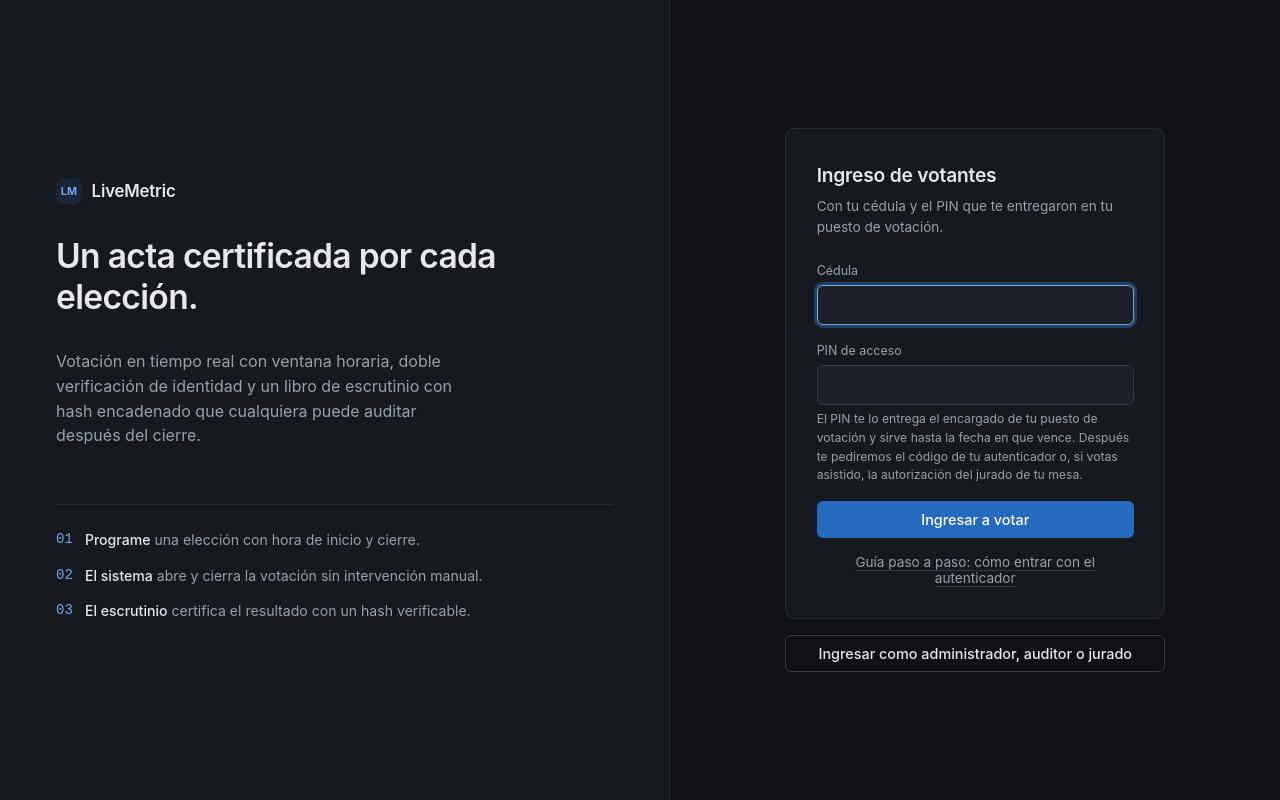
Test case: ingreso de administrador o auditor › mientras espera la respuesta, el botón queda deshabilitado (sin envíos dobles)
Click the button "Ingresar como administrador, auditor o jurado" at (975,653), box [785,635,1165,672]
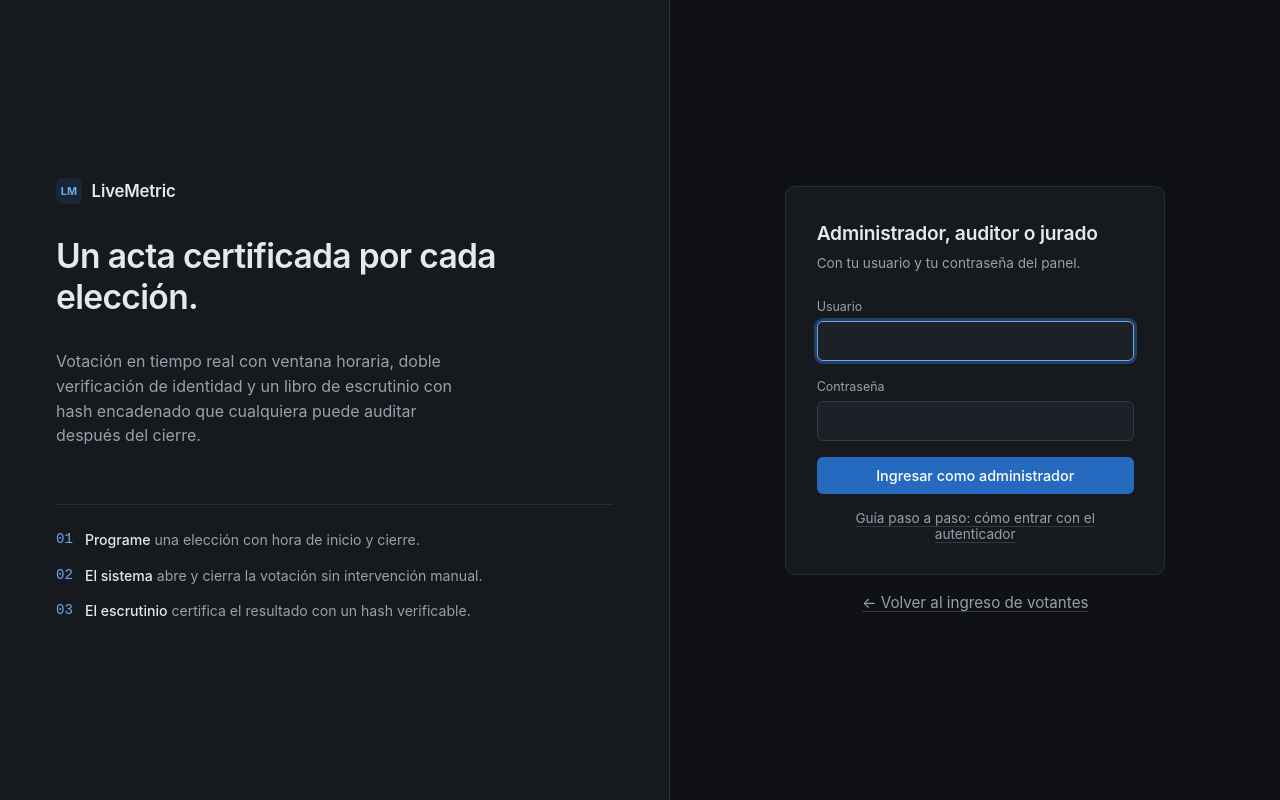
Type "ana" into the field labelled "Usuario" at (975,341), box [817,321,1134,361]
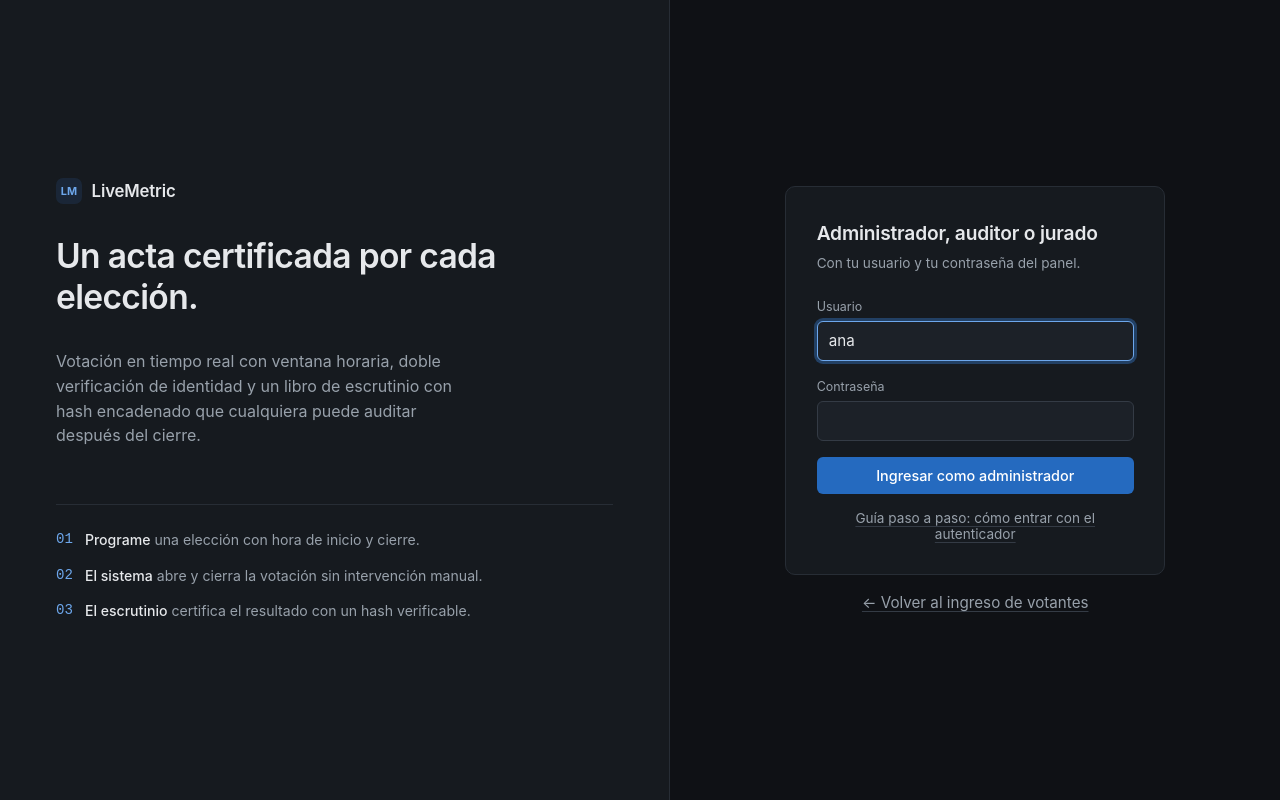
Type "clave" into the password field labelled "Contraseña" at (975,421), box [817,401,1134,441]
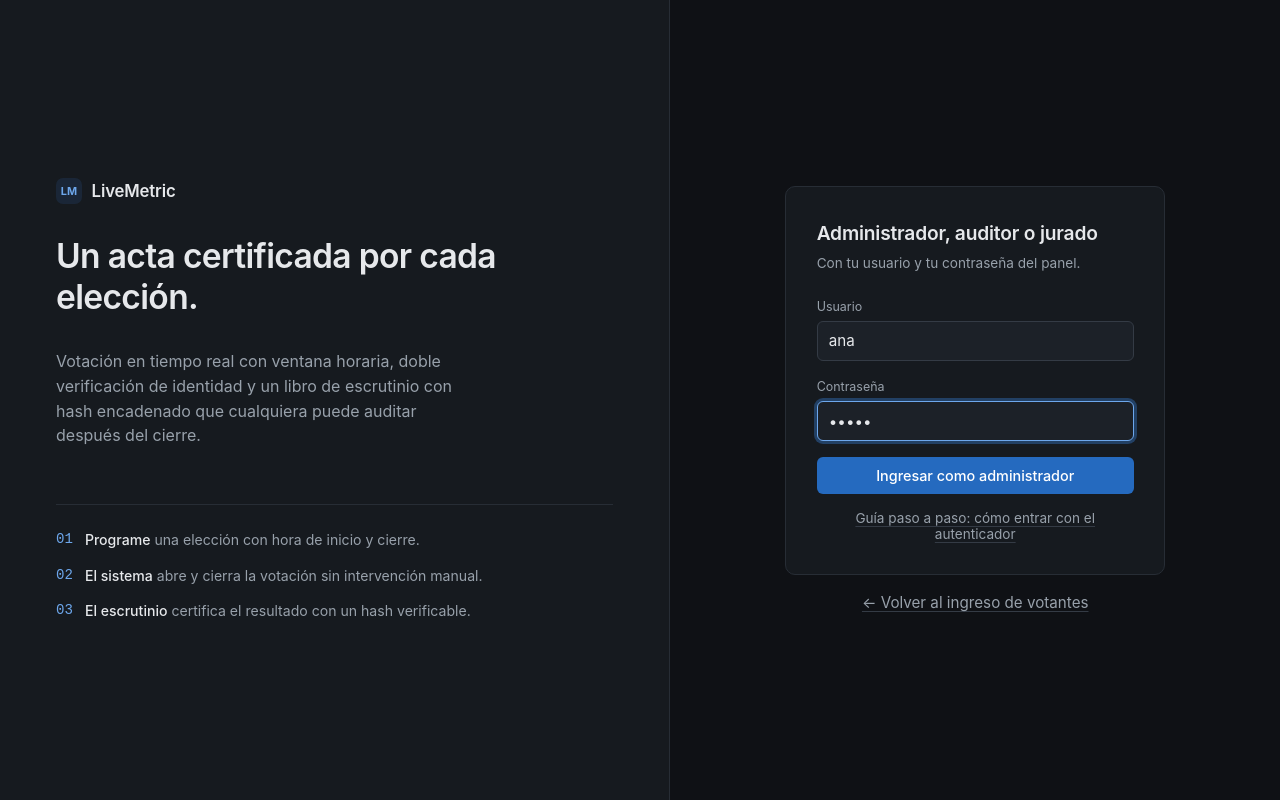
Click the button "Ingresar como administrador" at (975,476), box [817,457,1134,494]
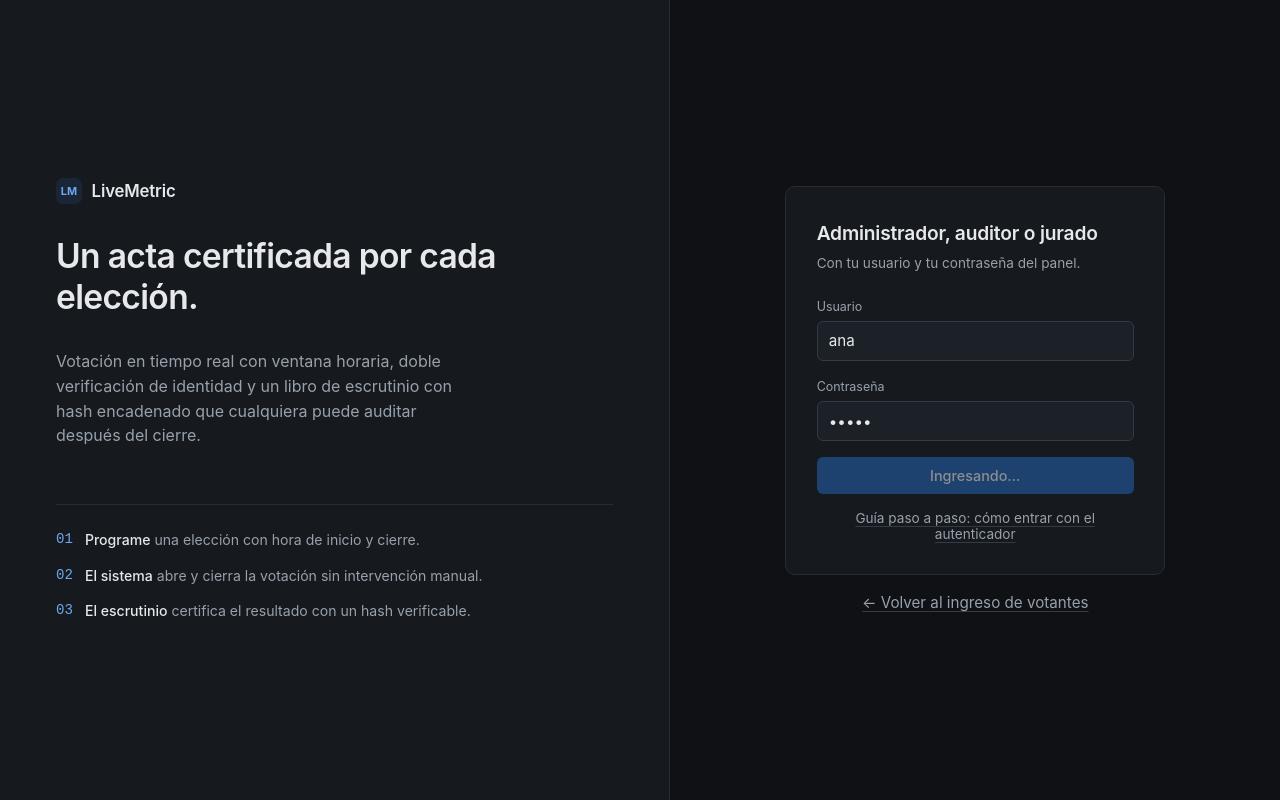
Expected: the button "Ingresando…" is disabled, [817,457,1134,494]
